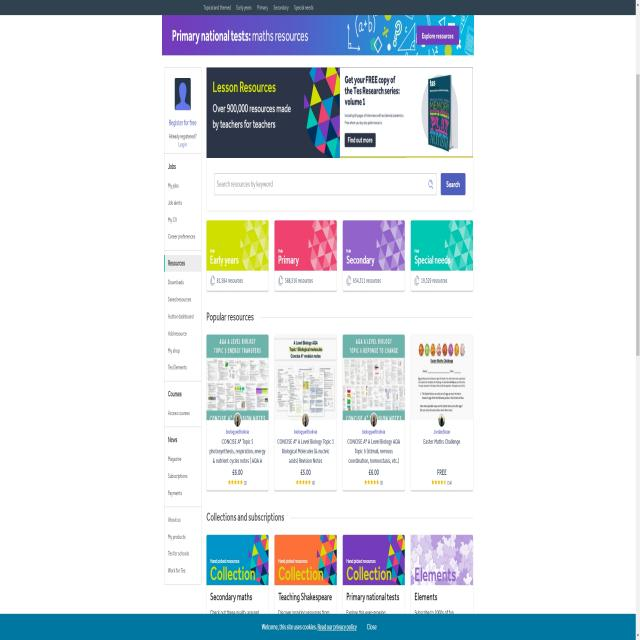menu-bar: (203, 4, 315, 10)
menu-panel: (162, 150, 200, 581)
search: (214, 171, 466, 195)
